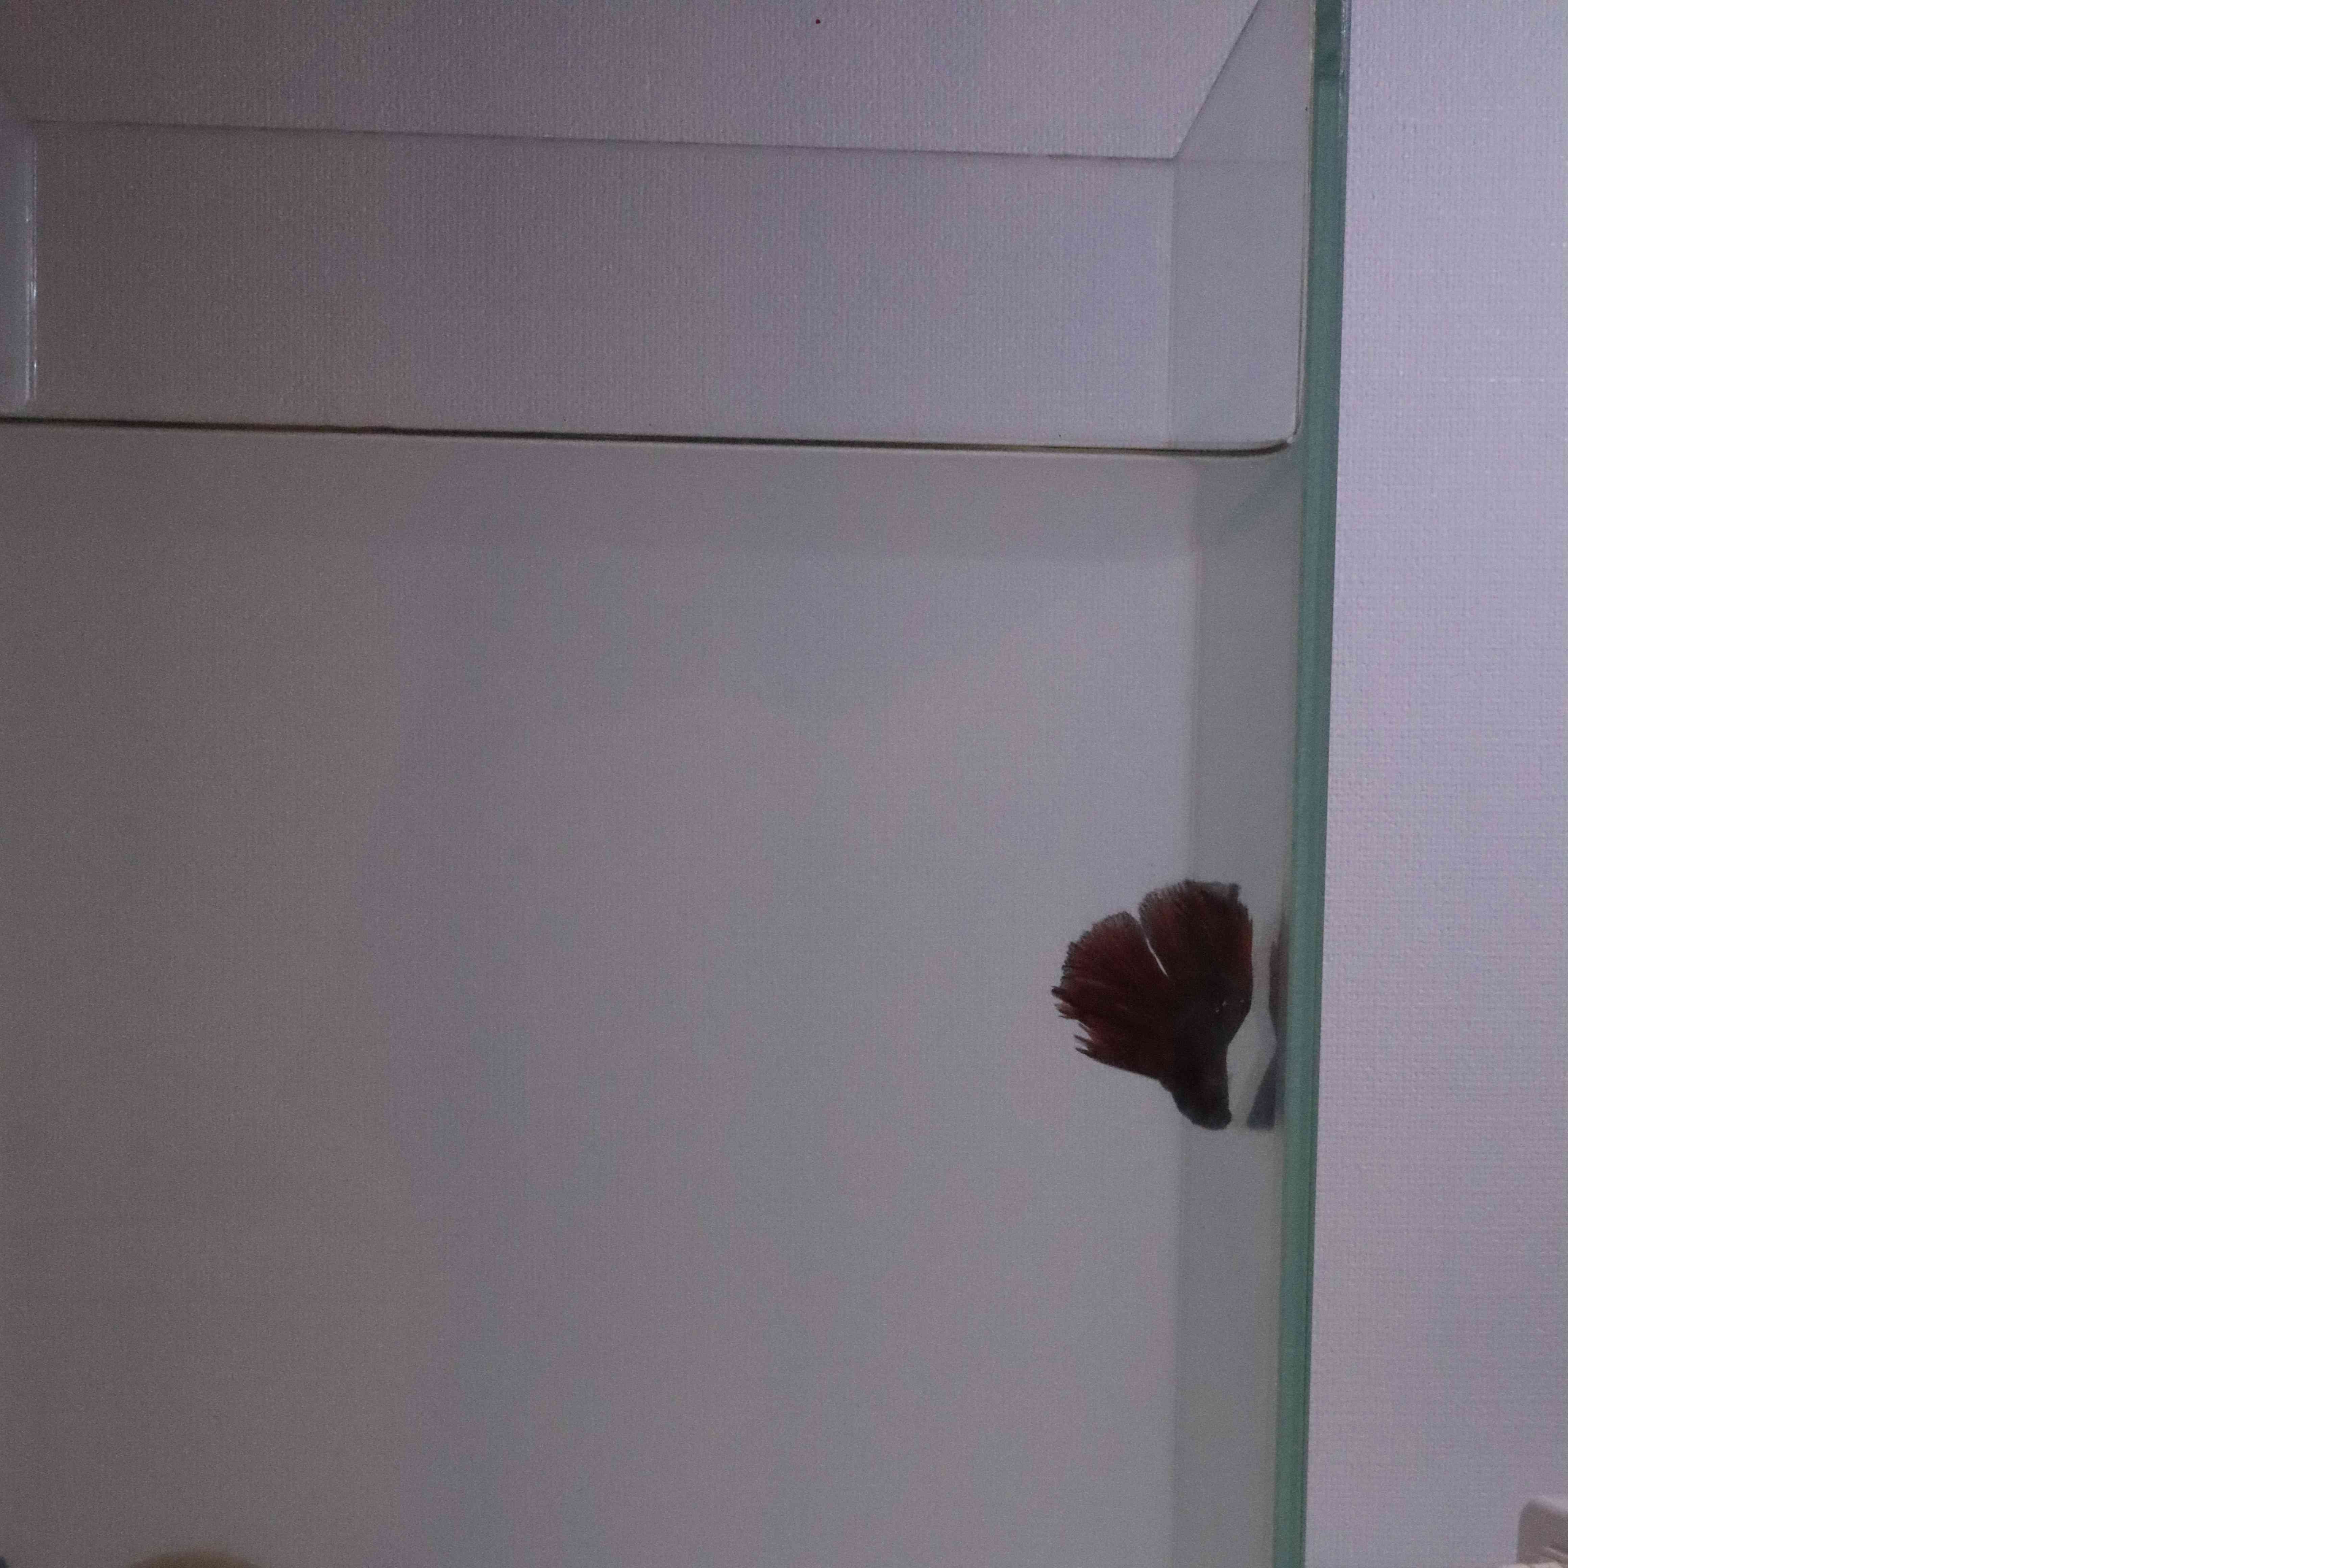fish: (1043, 875, 1246, 1134)
